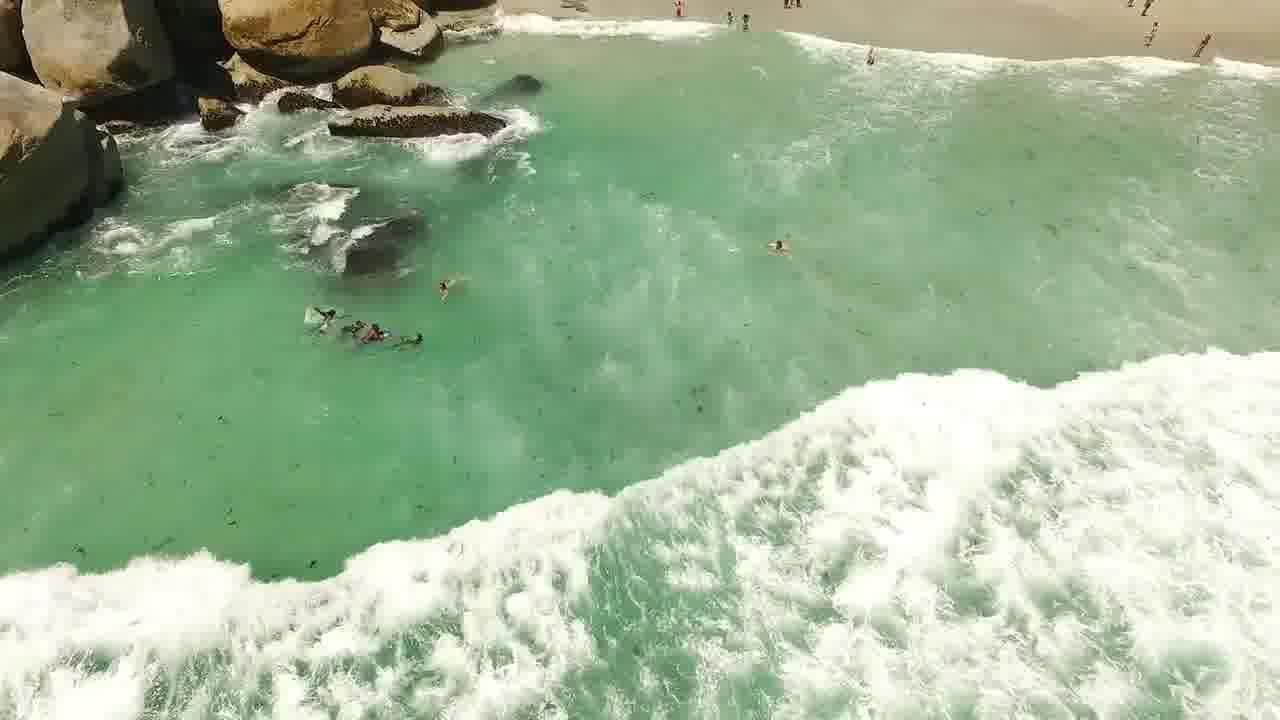human: (753, 228, 796, 262), (428, 275, 470, 305), (352, 321, 393, 351), (392, 328, 436, 352)
